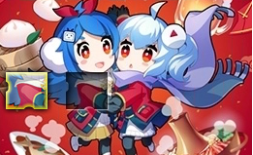gap: (66, 72, 109, 110)
